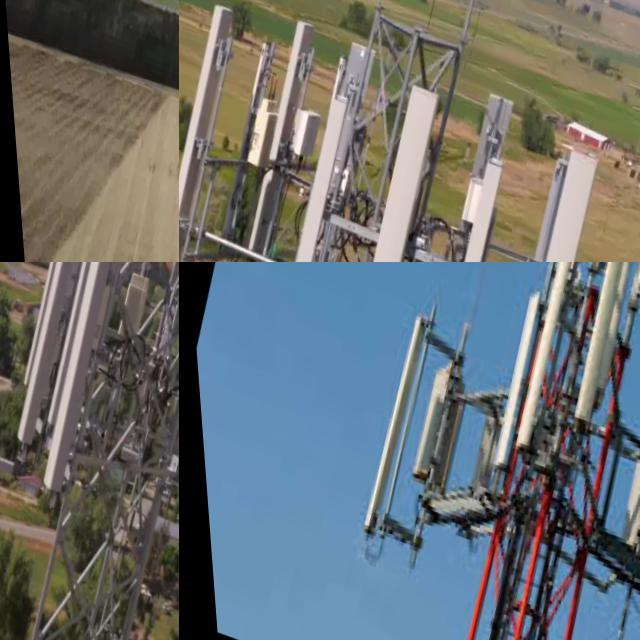GSM Antenna: (10, 262, 147, 508), (223, 6, 337, 262), (323, 64, 458, 262), (340, 297, 443, 542), (0, 262, 121, 467), (487, 262, 597, 458), (179, 0, 258, 262), (537, 262, 640, 437), (266, 75, 361, 262), (480, 130, 614, 262), (473, 273, 555, 476), (390, 340, 467, 513), (424, 139, 518, 262), (0, 262, 78, 398), (500, 133, 579, 262), (454, 80, 520, 212), (106, 262, 157, 346)
